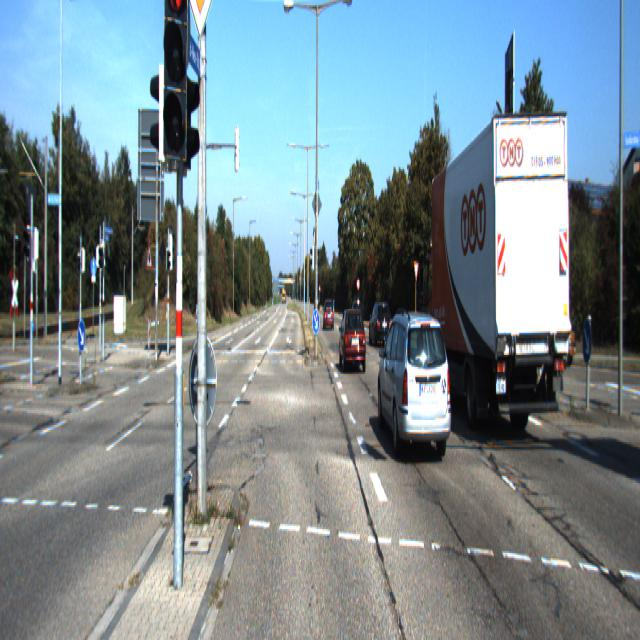Car: (421, 102, 573, 454), (377, 308, 455, 470), (339, 307, 366, 376), (369, 301, 393, 348)
